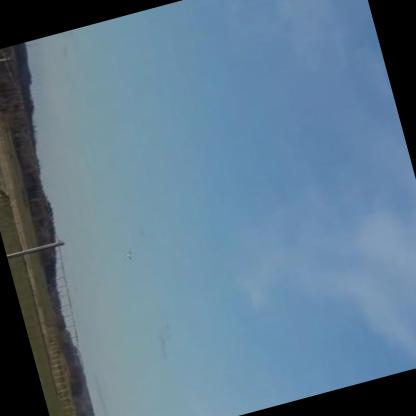plane: (120, 242, 140, 264)
